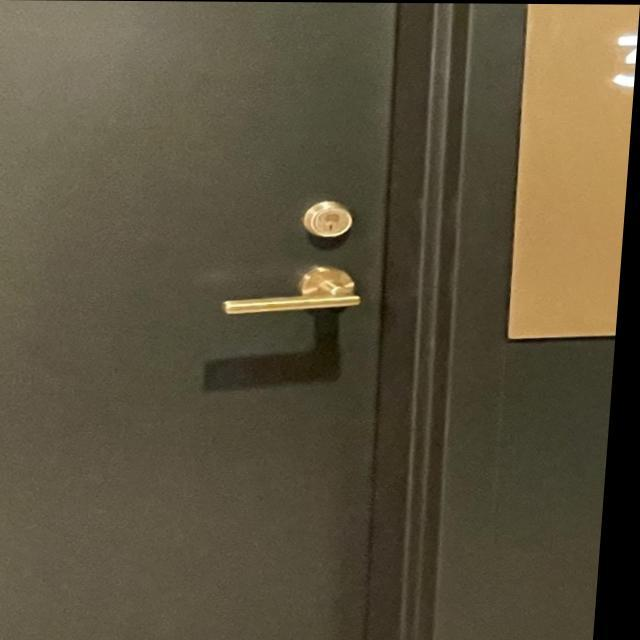door_handle: (210, 251, 394, 329)
